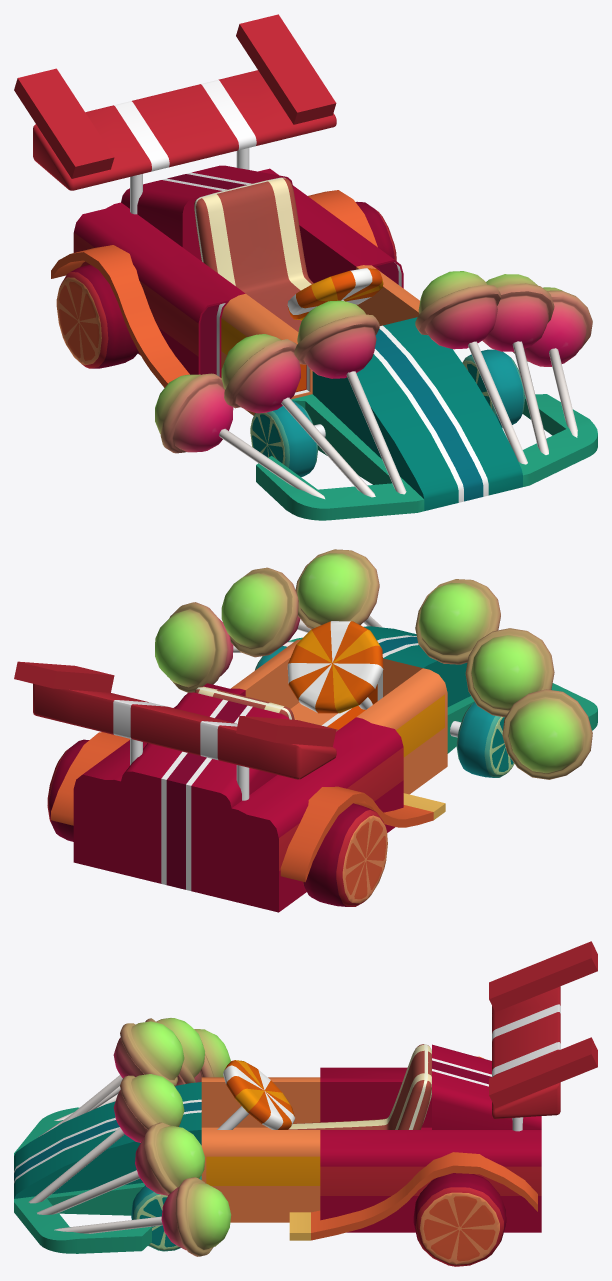
File: cw_car20.fbx
The picture shows the model from 3 angles, top to bottom: view 1: azimuth 30°, elevation 25°; view 2: azimuth 150°, elevation 25°; view 3: azimuth 270°, elevation 25°; orthographic projection. The views are drawn at different scales.
Parts seen in each view (by area): view 1: cw_car20, w20.002, w20, w20.001, w20.003; view 2: cw_car20, w20.002, w20, w20.003; view 3: cw_car20, w20.003, w20.001.
Part boxes in pixels (x1,y1,x2,y2): cw_car20: (14, 14, 597, 520); w20.002: (56, 264, 138, 368); w20: (250, 400, 317, 477); w20.001: (462, 349, 524, 428); w20.003: (355, 201, 396, 260); cw_car20: (14, 549, 597, 912); w20.002: (303, 803, 387, 906); w20: (456, 702, 514, 777); w20.003: (47, 739, 89, 841); cw_car20: (14, 941, 597, 1256); w20.003: (413, 1173, 506, 1266); w20.001: (131, 1185, 180, 1251).
Bounding box in the file's own units: 166 × 86.58 × 221.
